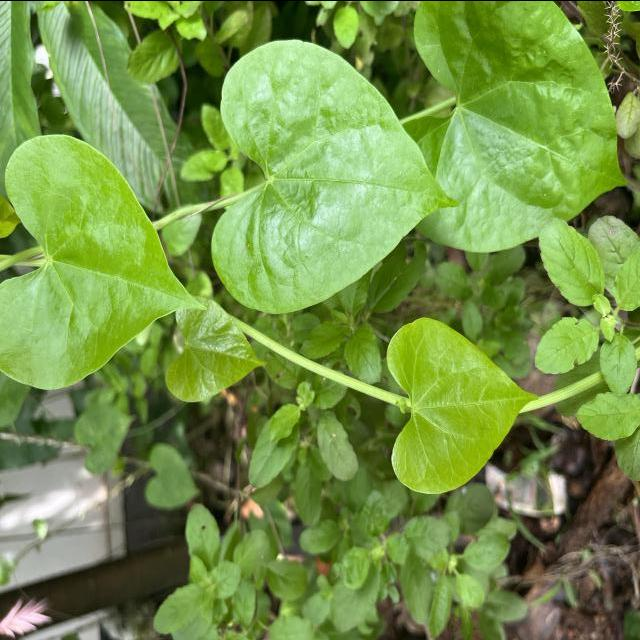Tinospora cordifolia: (207, 34, 464, 318), (394, 0, 632, 255), (0, 126, 211, 392), (381, 314, 541, 497)
